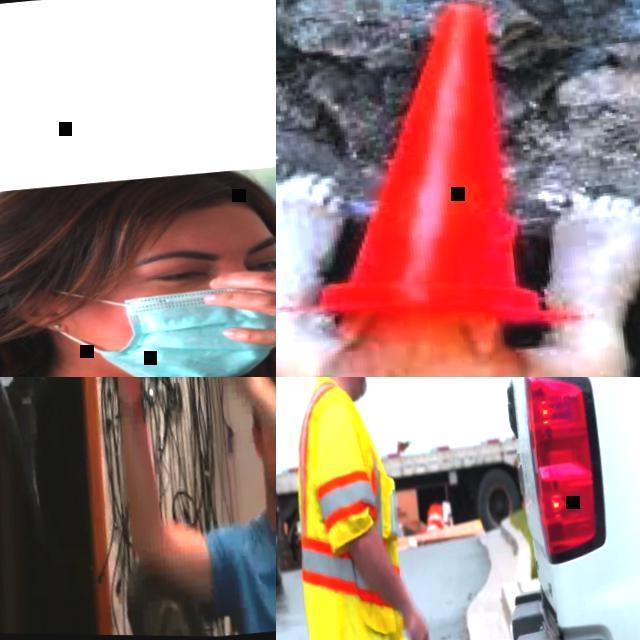mask: (47, 267, 276, 377)
no_helmet: (0, 161, 276, 261)
no_mask: (340, 377, 372, 402), (264, 456, 276, 506)
no_vest: (226, 504, 276, 636)
person: (0, 142, 276, 377), (276, 377, 451, 640), (105, 377, 276, 639)
safety_cone: (304, 0, 589, 349), (426, 504, 446, 532)
vehicle: (415, 377, 640, 640)
vest: (281, 377, 427, 640)
